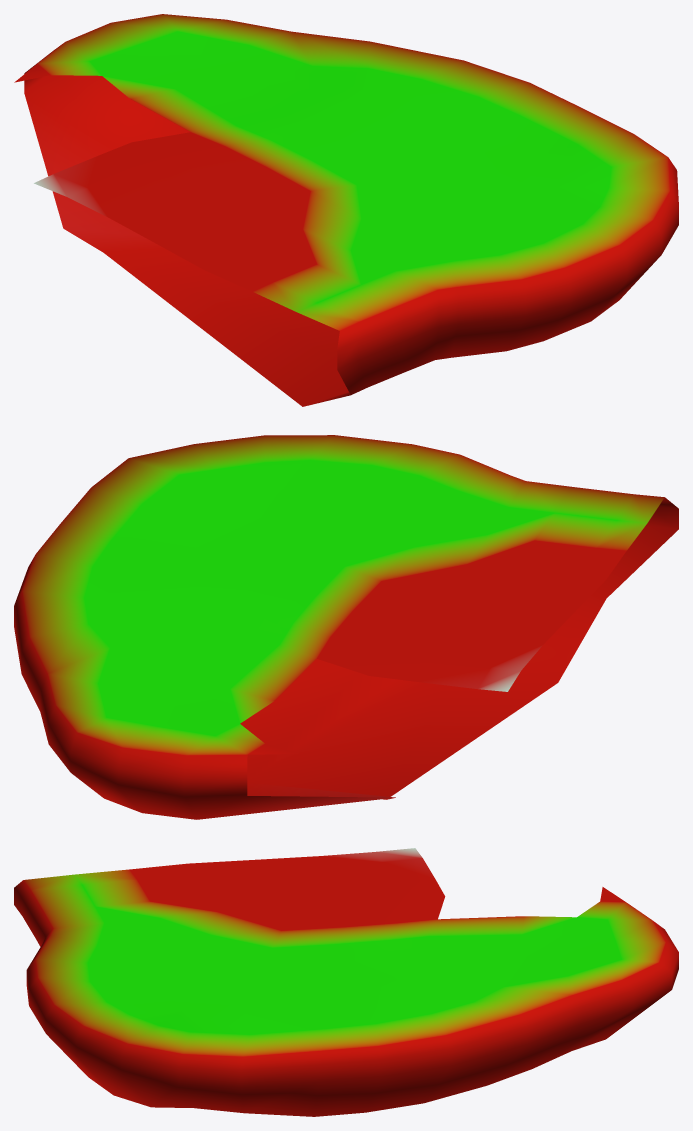
File: AO Random Henge Addon.fbx
3 renders of one model, top to bottom at view 1: azimuth 30°, elevation 25°; view 2: azimuth 150°, elevation 25°; view 3: azimuth 270°, elevation 25°, orthographic. The views are drawn at different scales.
Parts seen in each view (by area): view 1: Henge Addon; view 2: Henge Addon; view 3: Henge Addon.
Part boxes in pixels (x1,y1,x2,y2): Henge Addon: (14, 14, 678, 406); Henge Addon: (14, 435, 678, 819); Henge Addon: (14, 848, 678, 1116).
Bounding box in the file's own units: 1898 × 493 × 2515.
